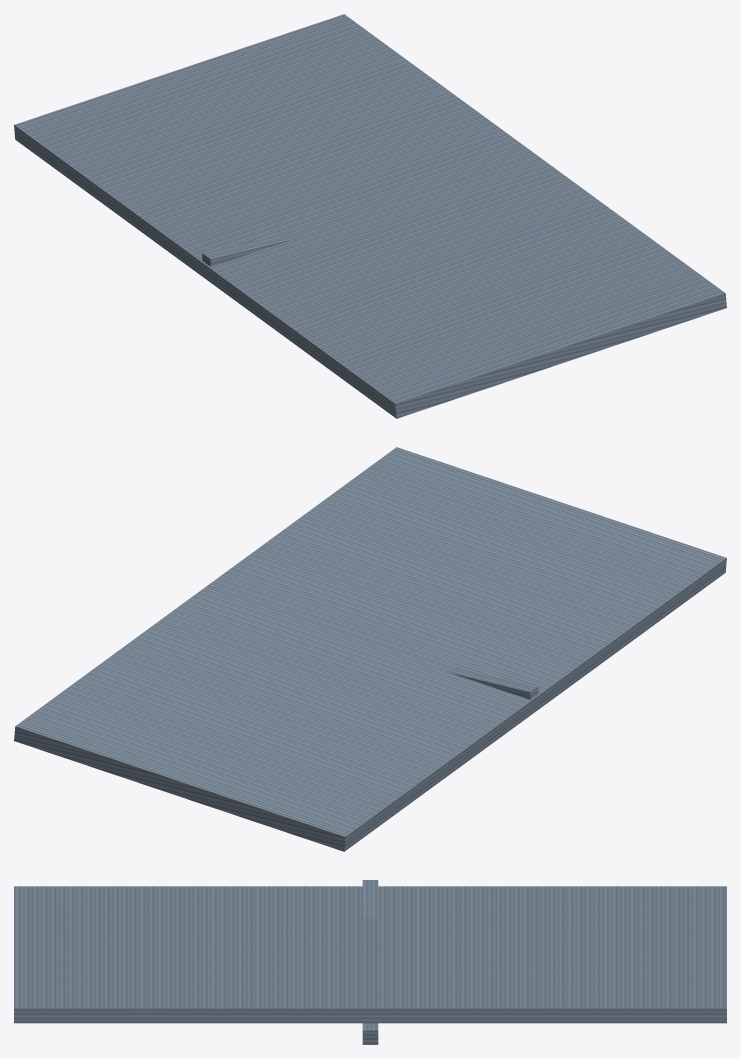
3 views of the same model, one above another, from view 1: azimuth 30°, elevation 25°; view 2: azimuth 150°, elevation 25°; view 3: azimuth 270°, elevation 25° (orthographic). The views are drawn at different scales.
Visible parts, largest first — view 1: roof_metal_low_production_run001; view 2: roof_metal_low_production_run001; view 3: roof_metal_low_production_run001.
Boxes of the visible parts, x1,y1,x2,y2 form: roof_metal_low_production_run001: (14, 14, 726, 418); roof_metal_low_production_run001: (14, 447, 726, 851); roof_metal_low_production_run001: (14, 880, 726, 1044).
Size of the model in its own units: 8.05 by 1.05 by 16.
1 material, 1 textured.
